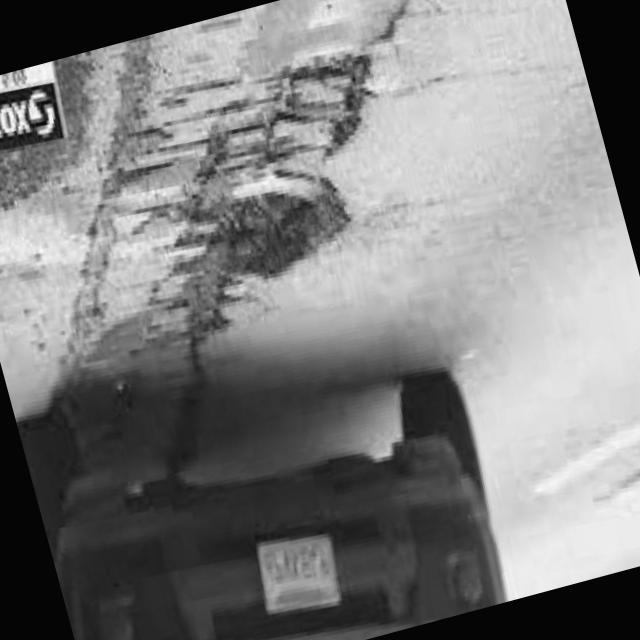Pathole: (61, 59, 368, 377)
